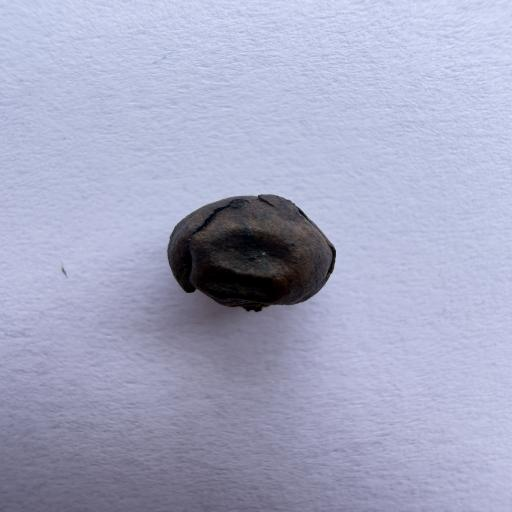Black_pepper: (80, 144, 418, 351)
